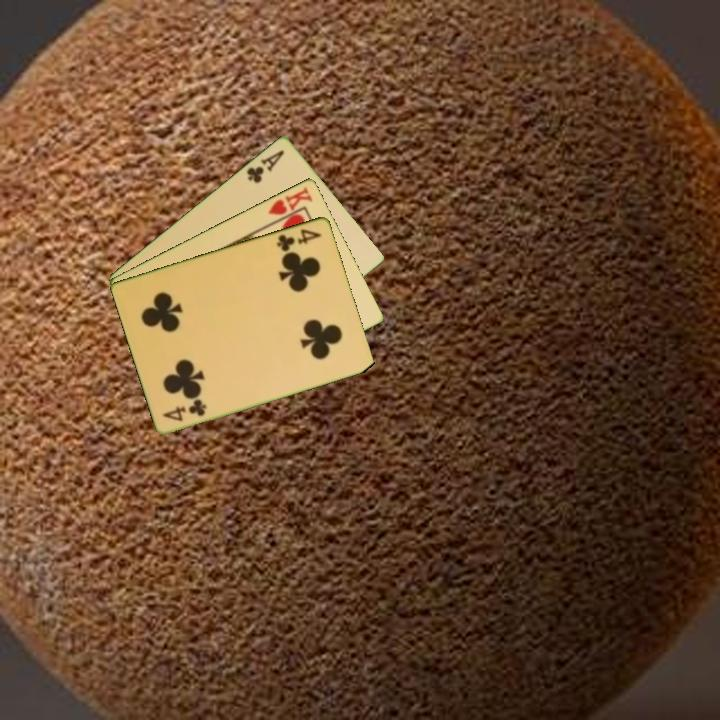4c: (273, 225, 325, 254), (159, 396, 210, 424)
Ac: (243, 146, 287, 186)
Kh: (264, 183, 316, 226)
